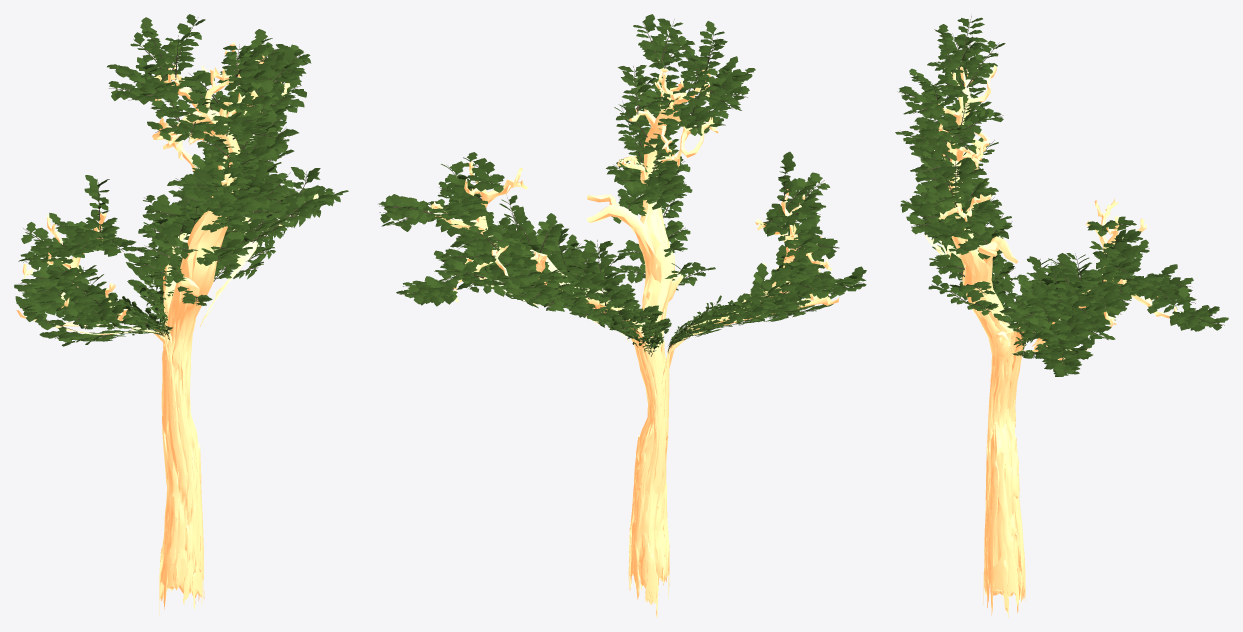
File: resinheart-altered-lod0.gltf
3 views of the same model, side by side, from view 1: azimuth 30°, elevation 25°; view 2: azimuth 150°, elevation 25°; view 3: azimuth 270°, elevation 25° (orthographic). The views are drawn at different scales.
Parts seen in each view (by area): view 1: altered resinheart broadleaf foliage 0 L0 L0, altered resinheart broadleaf trunk L0 L0, altered resinheart broadleaf branchlets 0 L0 L0; view 2: altered resinheart broadleaf foliage 0 L0 L0, altered resinheart broadleaf trunk L0 L0, altered resinheart broadleaf branchlets 0 L0 L0; view 3: altered resinheart broadleaf foliage 0 L0 L0, altered resinheart broadleaf trunk L0 L0, altered resinheart broadleaf branchlets 0 L0 L0.
Boxes of the visible parts, x1=… form: altered resinheart broadleaf foliage 0 L0 L0: x1=14, y1=14, x2=348, y2=346; altered resinheart broadleaf trunk L0 L0: x1=16, y1=42, x2=318, y2=615; altered resinheart broadleaf branchlets 0 L0 L0: x1=19, y1=17, x2=309, y2=340; altered resinheart broadleaf foliage 0 L0 L0: x1=378, y1=14, x2=866, y2=352; altered resinheart broadleaf trunk L0 L0: x1=427, y1=59, x2=839, y2=617; altered resinheart broadleaf branchlets 0 L0 L0: x1=379, y1=19, x2=861, y2=356; altered resinheart broadleaf foliage 0 L0 L0: x1=895, y1=17, x2=1228, y2=376; altered resinheart broadleaf trunk L0 L0: x1=925, y1=65, x2=1183, y2=617; altered resinheart broadleaf branchlets 0 L0 L0: x1=897, y1=16, x2=1224, y2=375.
Size of the model in its own units: 8.18 by 12 by 6.25.
